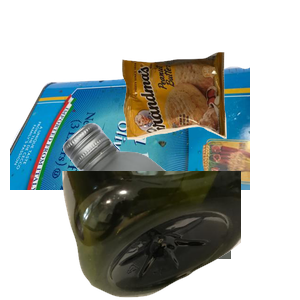glass: (60, 120, 300, 300)
metal: (10, 64, 250, 244)
plastic: (60, 171, 300, 300)
trash: (120, 50, 300, 182)
